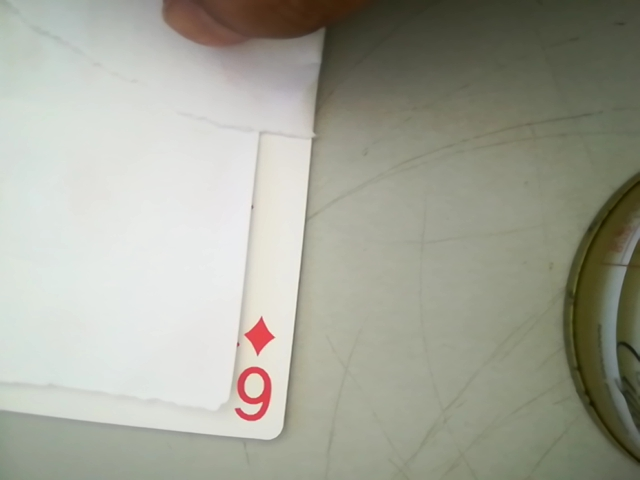fk 6: (221, 303, 280, 430)
